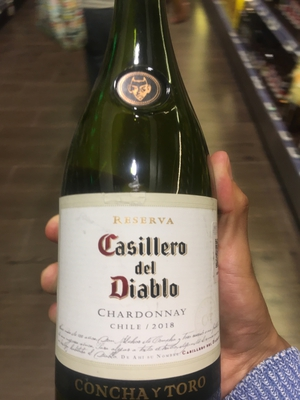casillero del diablo chardonnay: (45, 6, 225, 400)
